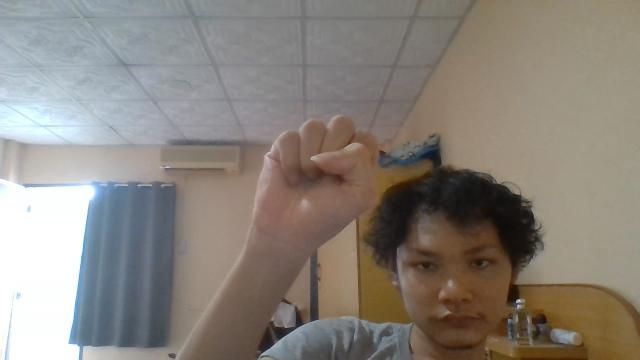forward: (251, 114, 379, 254)
